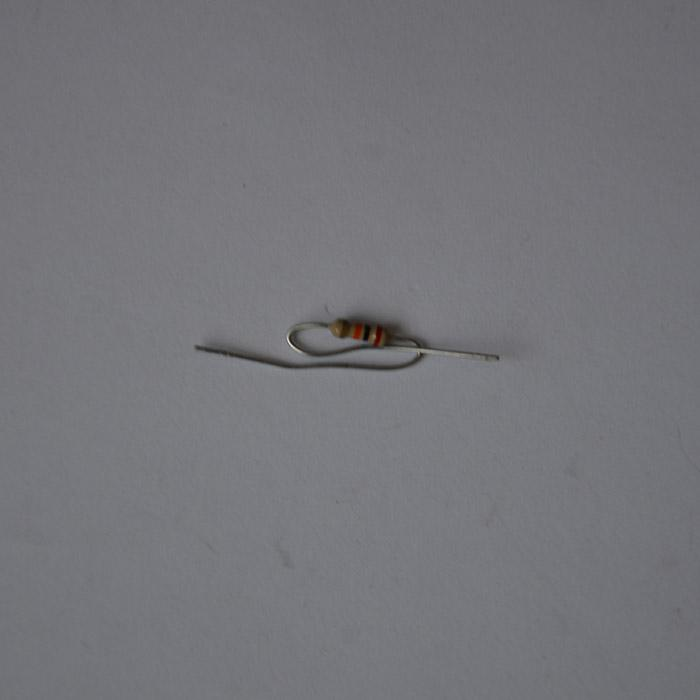resistor: (330, 318, 388, 346)
